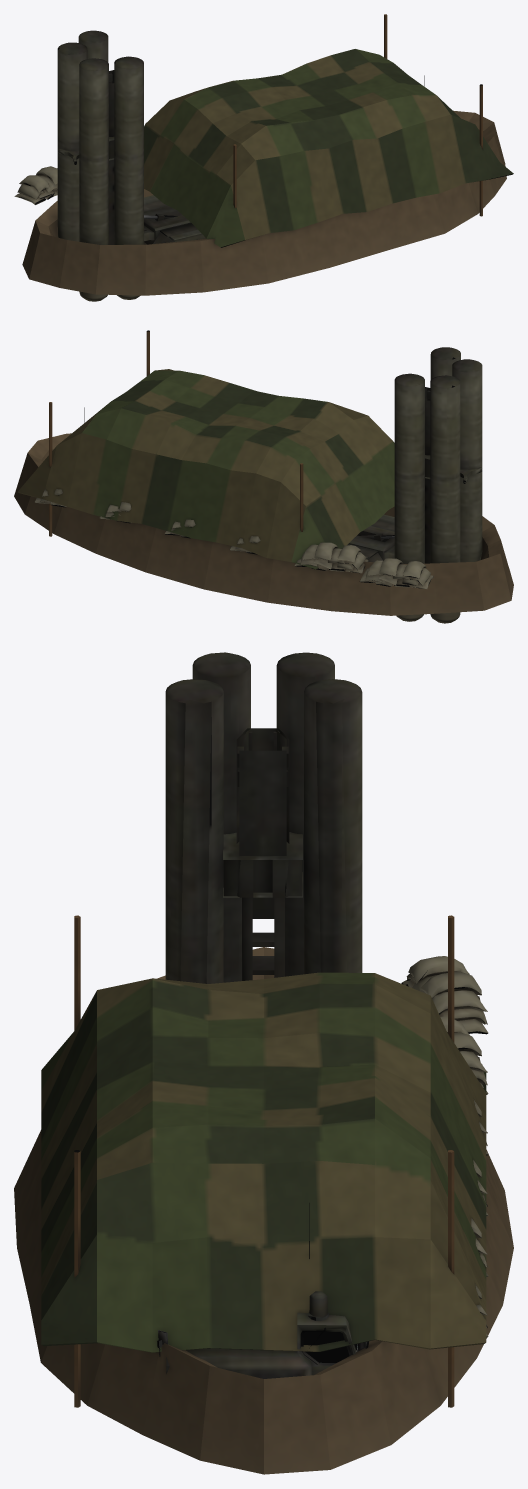
Rendered from hsam.glb.
3 renders of one model, top to bottom at view 1: azimuth 30°, elevation 25°; view 2: azimuth 150°, elevation 25°; view 3: azimuth 270°, elevation 25°, orthographic. The views are drawn at different scales.
Visible parts, largest first — view 1: hull; view 2: hull; view 3: hull.
Boxes of the visible parts, x1,y1,x2,y2 form: hull: (14, 14, 513, 301); hull: (14, 330, 513, 623); hull: (14, 652, 513, 1474).
Size of the model in its own units: 15.42 by 7.45 by 7.19.
Materials: 1 (1 with a texture image).
